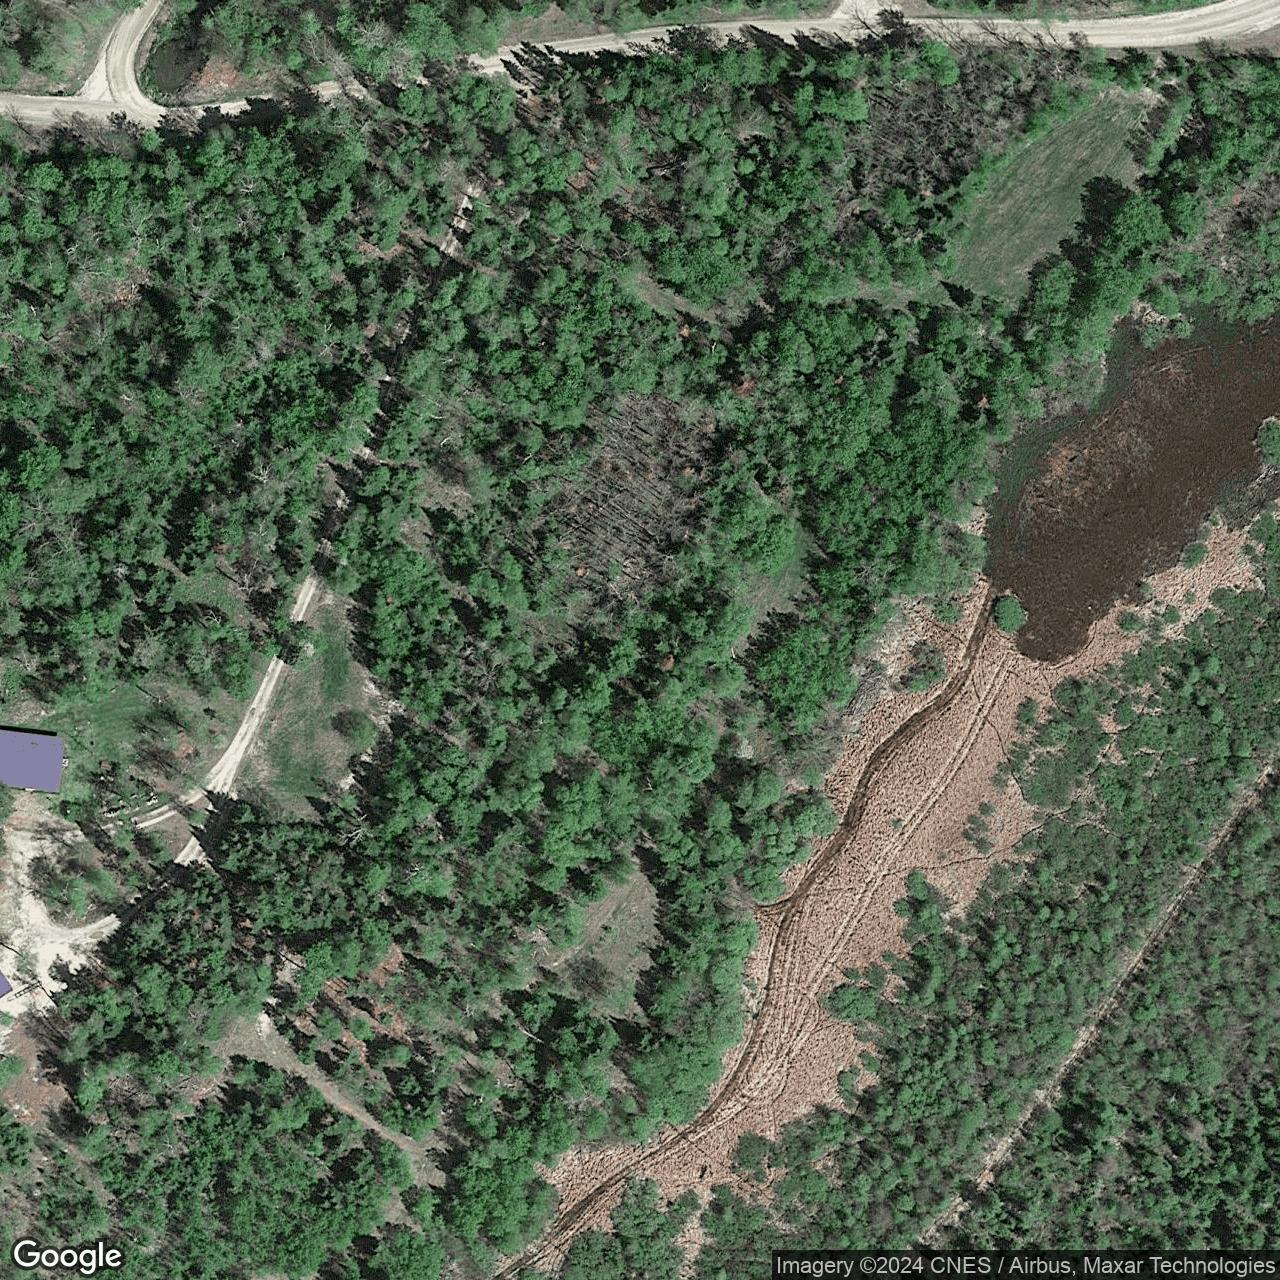House: (0, 728, 67, 797)
